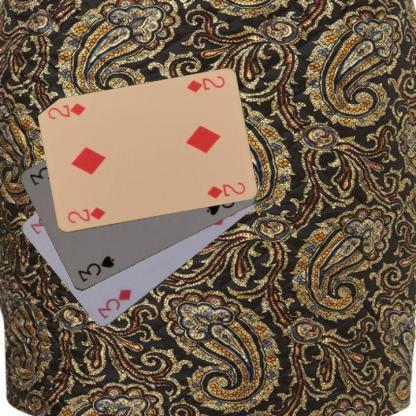2d: (184, 73, 226, 95), (65, 204, 107, 224)
3d: (94, 286, 133, 320)
3s: (75, 253, 116, 284)
